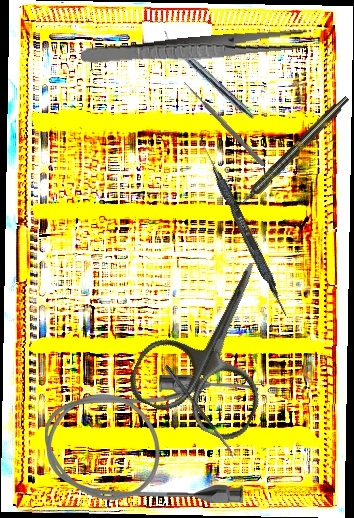Cannula: (45, 375, 258, 503)
Dressing Forceps: (80, 27, 309, 70)
Handpiece: (233, 93, 352, 212), (158, 29, 258, 122)
Iris Scissors: (122, 237, 312, 447)
Pusher: (181, 80, 267, 167)
Spatula Surgical: (192, 134, 294, 318)
Surgical Spoon: (163, 364, 237, 459)
